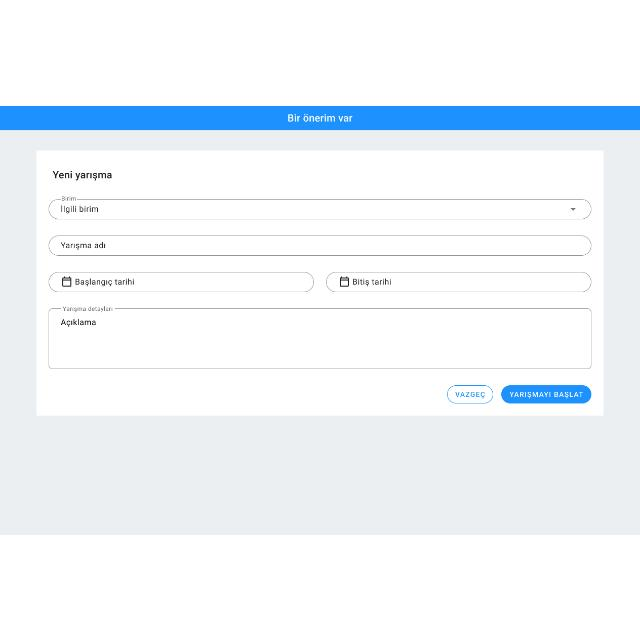QLabel: (284, 112, 354, 125), (51, 168, 113, 180), (508, 390, 584, 398), (452, 390, 486, 398)
VAppBar: (0, 105, 640, 129)
VBtn: (502, 384, 590, 404), (448, 384, 492, 404)
VCard: (37, 150, 603, 416)
VCombobox: (49, 195, 592, 219)
VInlineDatepicker: (326, 270, 592, 292), (49, 270, 313, 292)
VTextField: (49, 234, 591, 256)
VTextarea: (48, 304, 592, 370)
